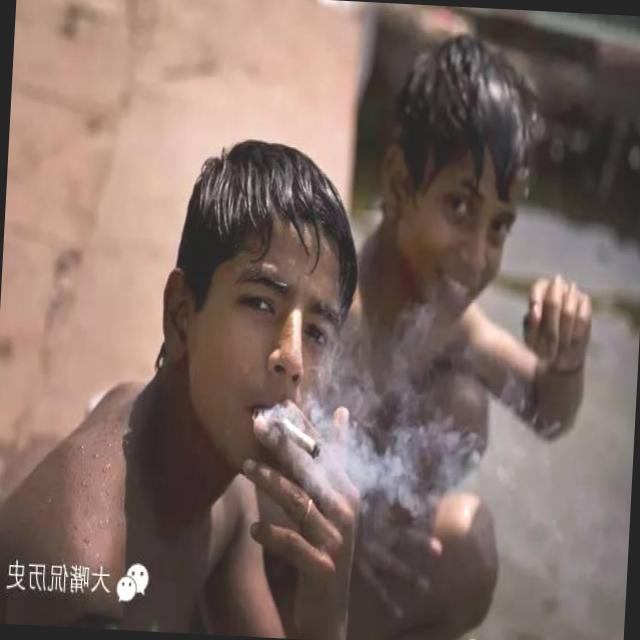cigarette: (262, 404, 338, 477)
